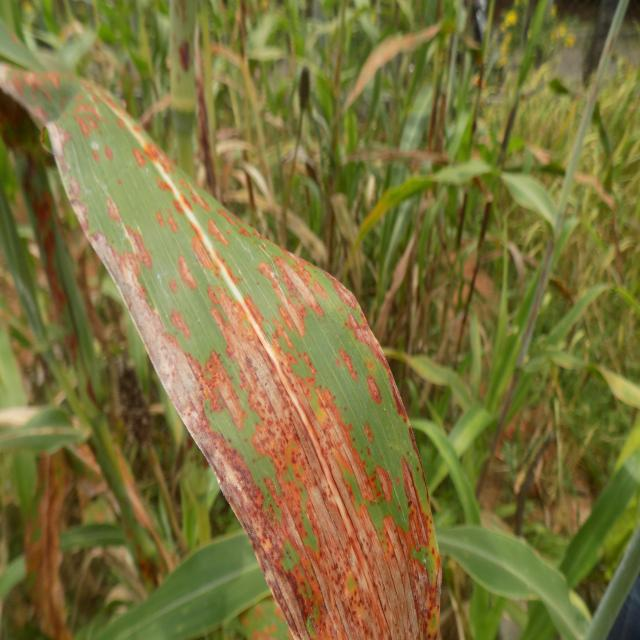millet_rust: (1, 52, 442, 636)
